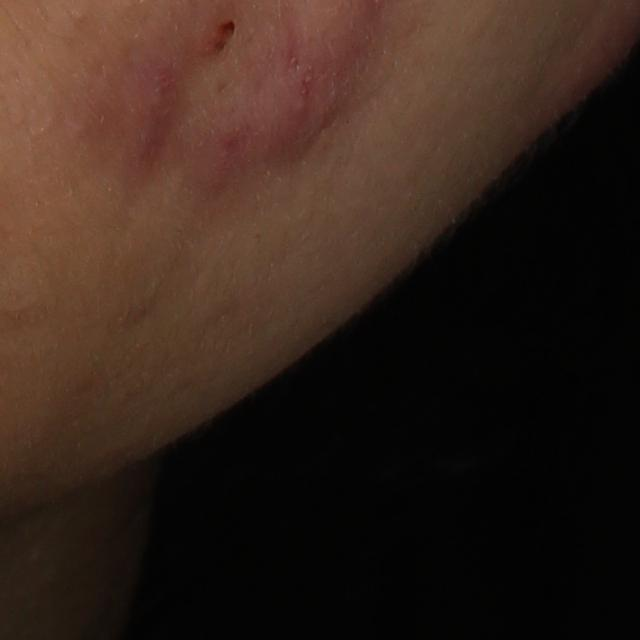nodule: (174, 15, 360, 210)
papule: (127, 59, 183, 162), (199, 9, 240, 54)
